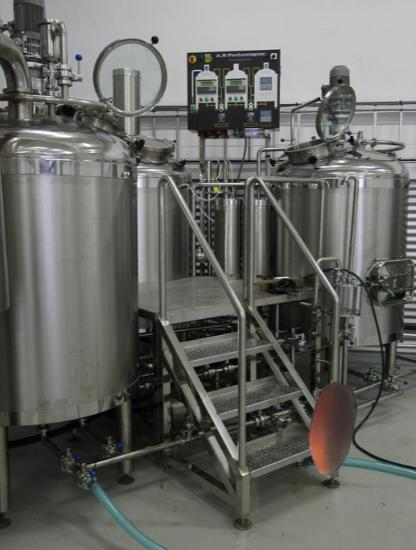Hazelnut: (283, 383, 379, 479)
